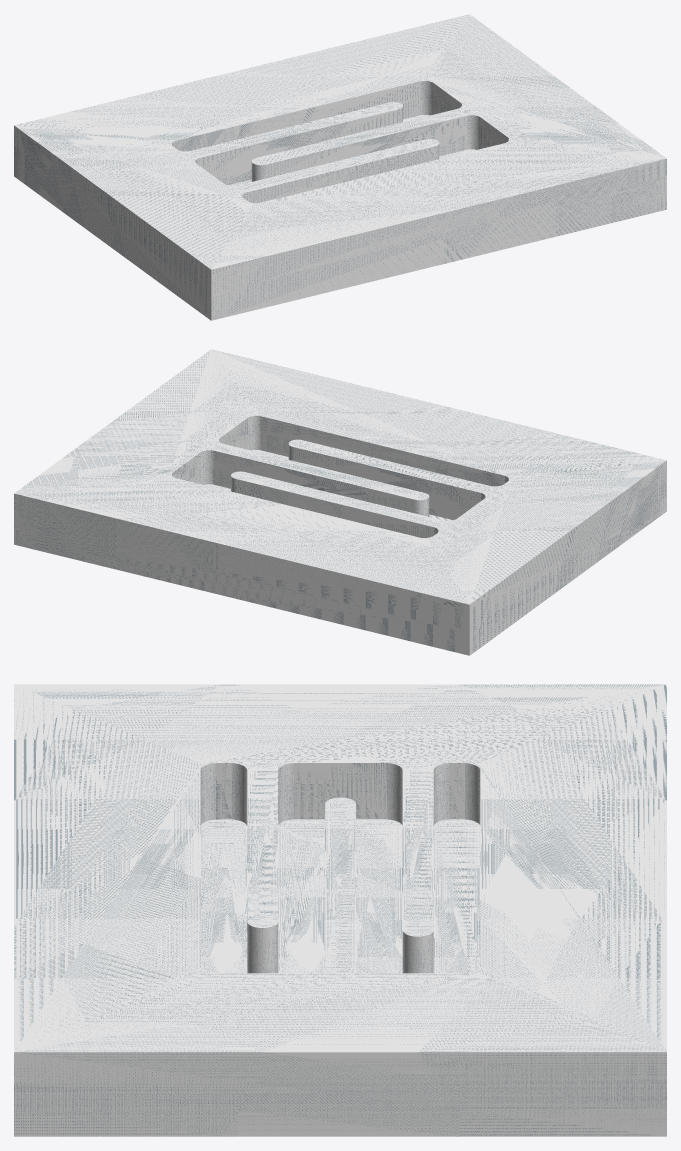
The model's file is _Tutorial 1 (dae).dae.
The picture shows the model from 3 angles, top to bottom: view 1: azimuth 30°, elevation 25°; view 2: azimuth 150°, elevation 25°; view 3: azimuth 270°, elevation 25°; orthographic projection. The views are drawn at different scales.
Parts seen in each view (by area): view 1: SketchUp (×2); view 2: SketchUp (×2); view 3: SketchUp (×2).
Part boxes in pixels (x1,y1,x2,y2): SketchUp (×2): (14,14,666,320); SketchUp (×2): (14,349,666,655); SketchUp (×2): (14,684,666,1136).
Size of the model in its own units: 1102 by 827 by 118.
